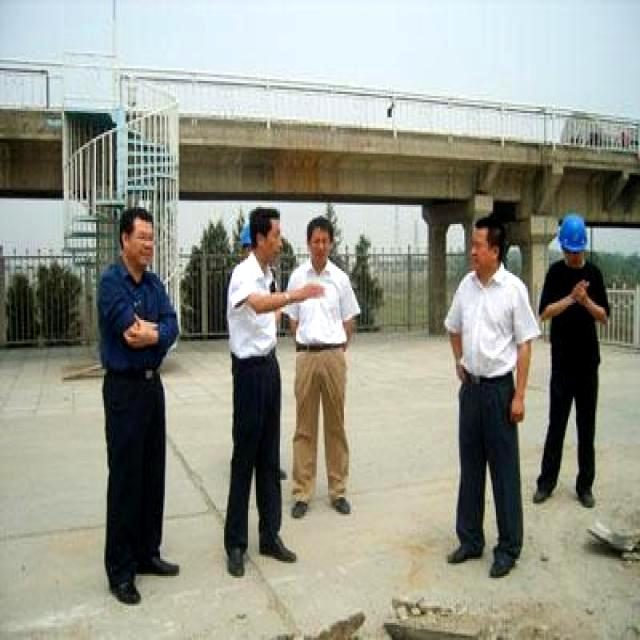hard_hat: (557, 213, 587, 254)
no_head_wear: (474, 213, 506, 245), (118, 205, 152, 235), (250, 207, 278, 235), (307, 215, 333, 235)
person: (445, 215, 538, 576), (98, 207, 178, 602), (223, 205, 292, 578), (533, 215, 608, 506), (288, 215, 358, 516)
